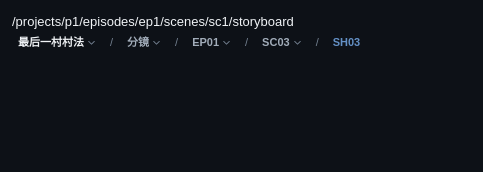
Test case: content breadcrumb › marks the current scene inside its sibling menu and closes on Escape
Hover over the link "SC03" at (282, 42), box [262,36,302,48]
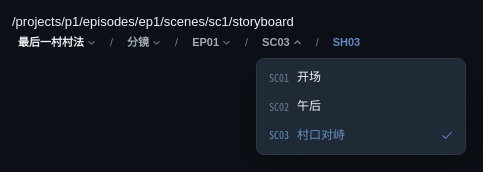
Press Escape
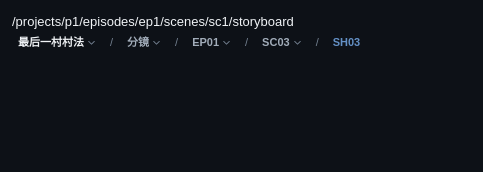
Now the menu is gone
